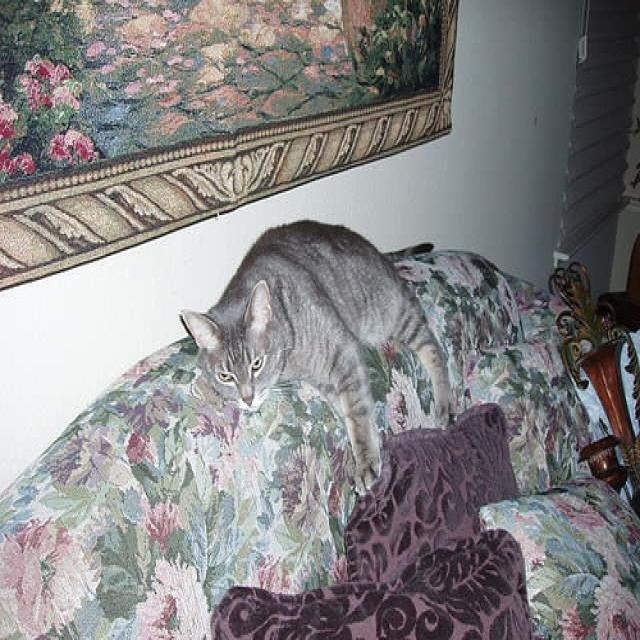cat: (178, 217, 450, 495)
sofa: (0, 249, 639, 638)
